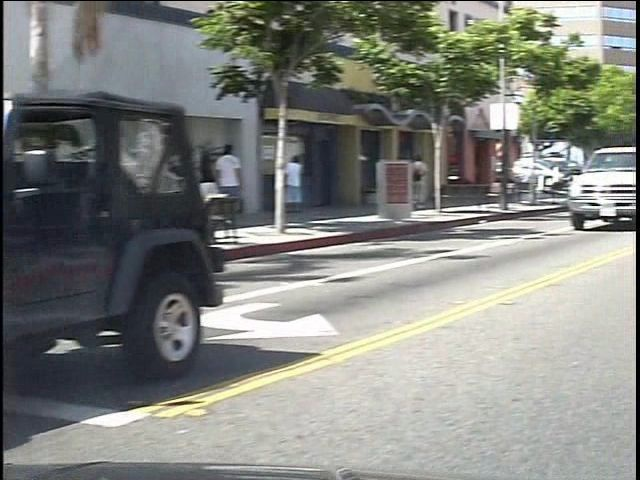person: (228, 142, 267, 235), (298, 143, 322, 226), (426, 153, 445, 214)
